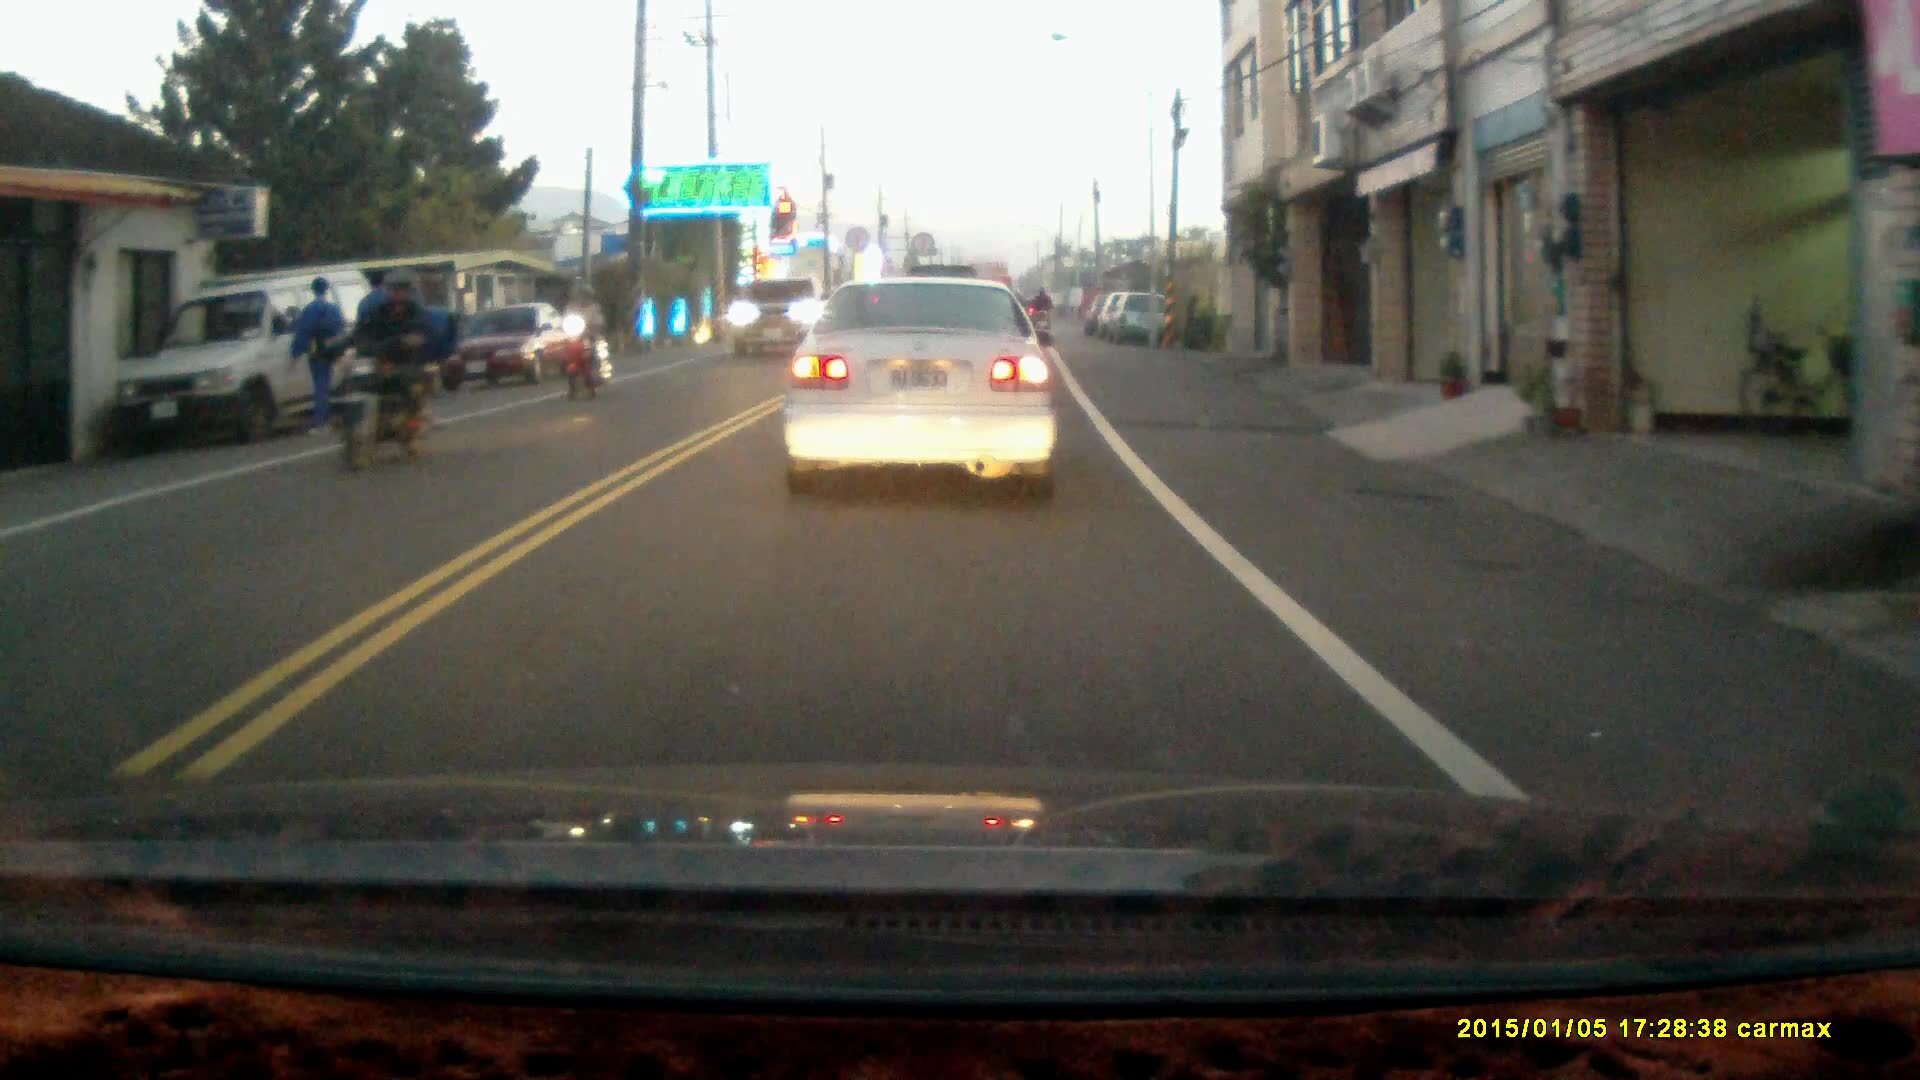pedestrian: (286, 276, 346, 438)
rider: (324, 263, 458, 476), (556, 284, 612, 402)
vehicle: (782, 278, 1061, 508), (106, 275, 379, 451), (437, 309, 589, 400), (725, 277, 827, 364), (1106, 298, 1176, 351)
